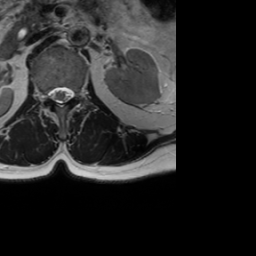CCS_normal: (56, 77, 64, 113)
LFS_normal: (73, 81, 80, 105)
LLS_normal: (64, 78, 74, 105)
RFS_normal: (40, 81, 48, 108)
RLS_normal: (48, 80, 56, 106)
